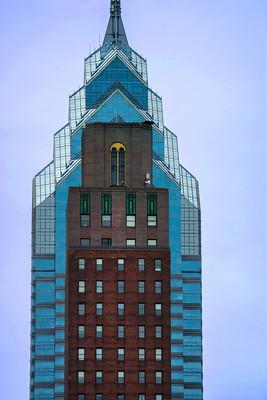building: (27, 34, 209, 400)
